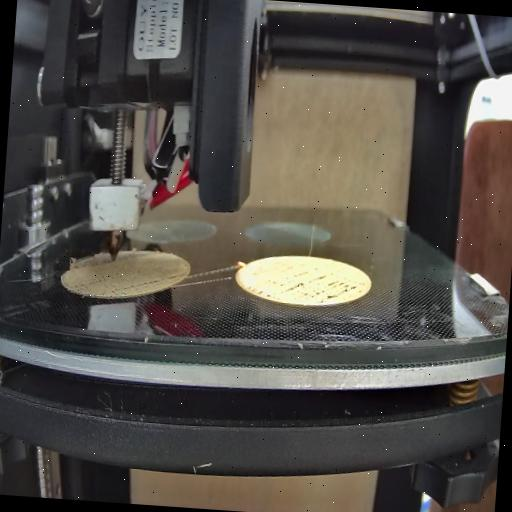under_extrusion: (244, 270, 372, 307), (120, 269, 182, 296), (59, 249, 78, 276)
